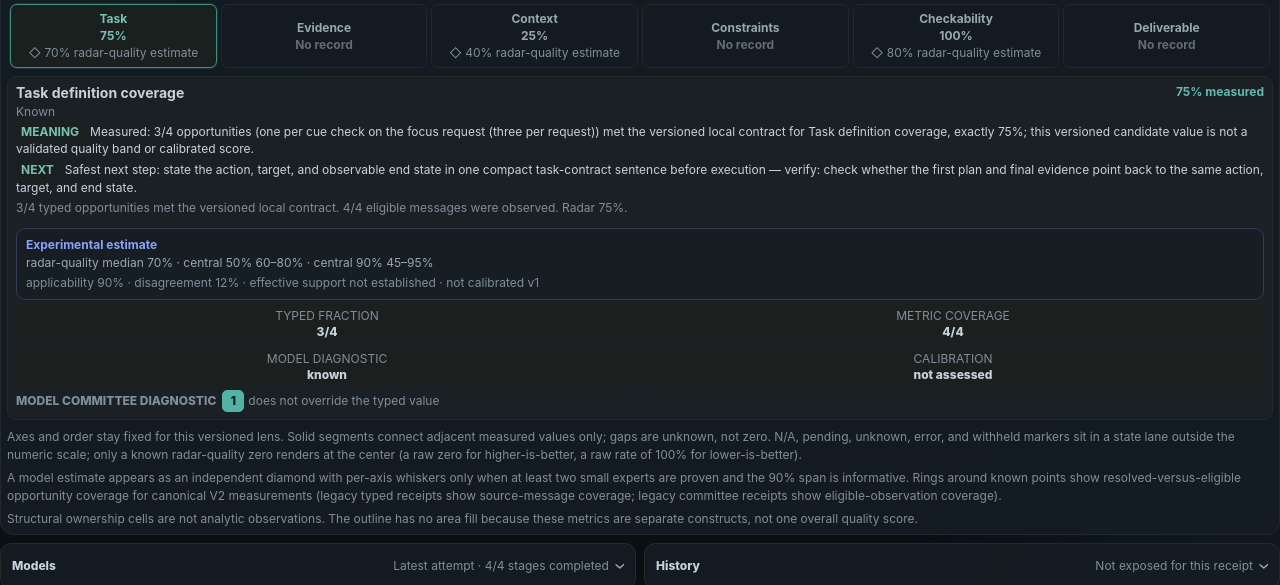
it: ModelEnsemblePanel › renders the dynamic three-small plus Qwen terminal constellation without counting Qwen as a small expert
This screenshot has width=1280, height=585.
(page scrolled)
Click the text "Models": (34, 566) [12, 558, 56, 573]
(page scrolled)
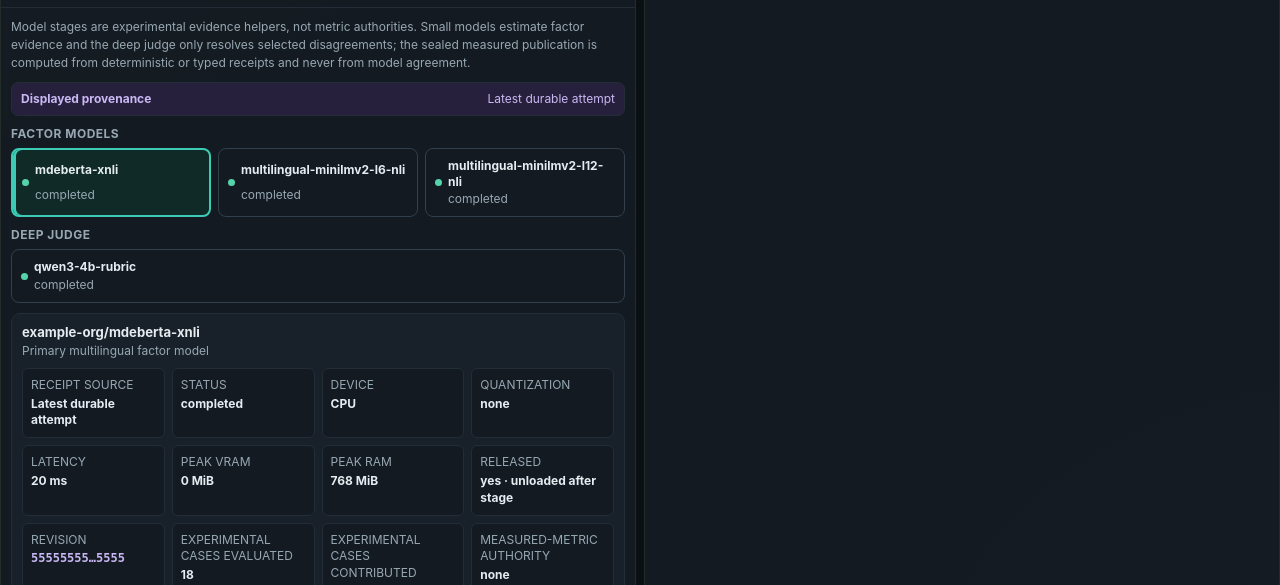
Result: the text "Factor models" is shown at [11, 126, 119, 141]
Result: the text "Deep judge" is shown at [11, 228, 90, 242]
Result: the text "qwen3-4b-rubric" is shown at [34, 260, 136, 274]
